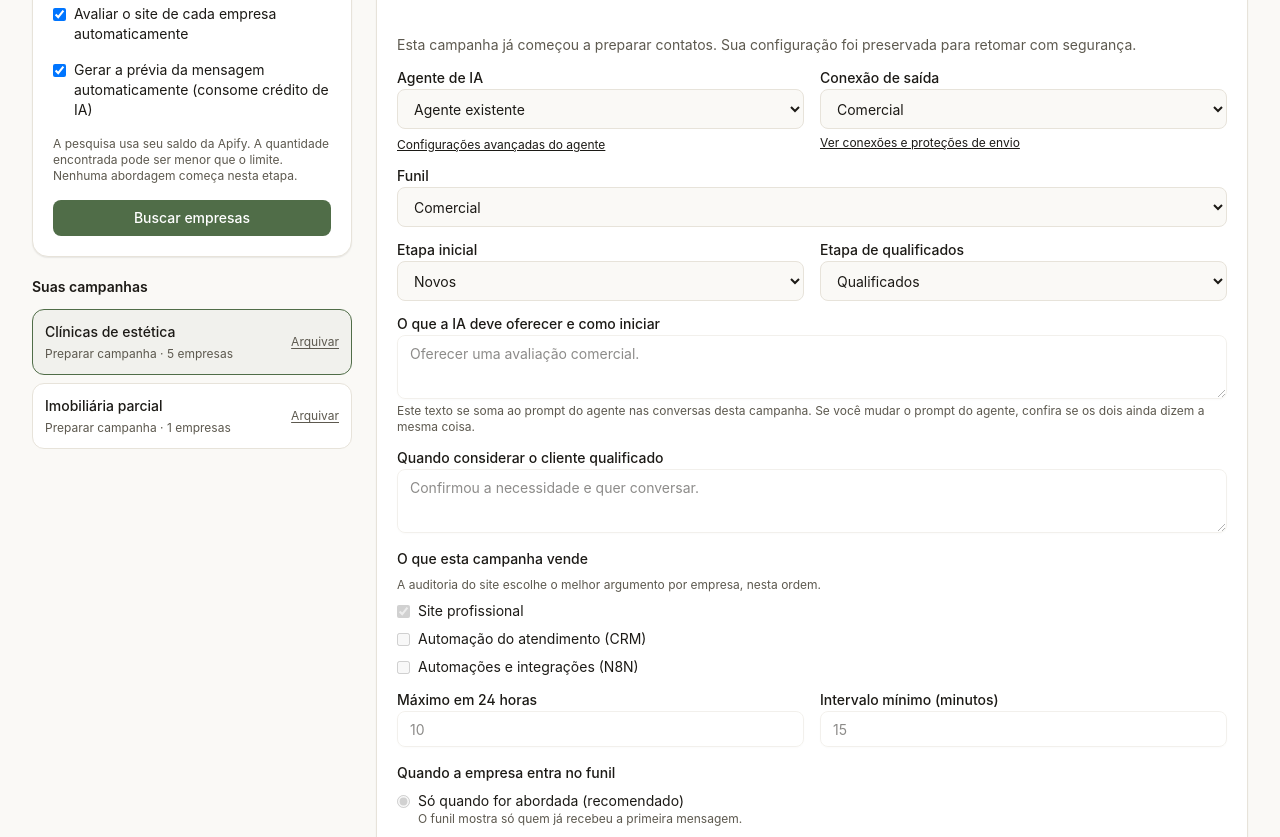
Test case: A3: painel de configuração por estado do rascunho › config parcial (sem agente) mostra o painel e o formulário não fica travado
(page scrolled)
Click the button "Imobiliária parcial Preparar campanha · 1 empresas".
click(152, 416)  # box [33,384,271,448]
(page scrolled)
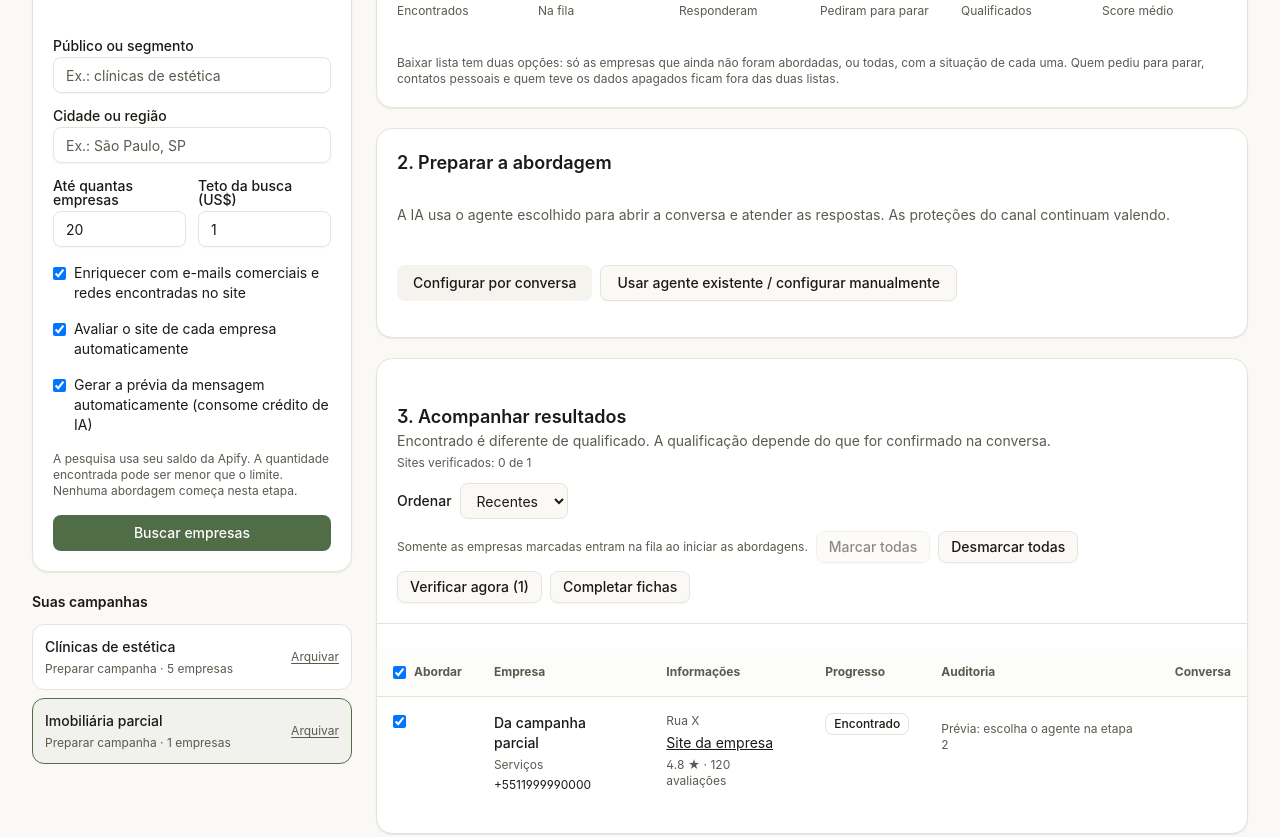
Check: the button "Configurar por conversa" is shown, box [397,265,592,301]
Click the button "Usar agente existente / configurar manualmente".
click(779, 283)  # box [600,265,957,301]
(page scrolled)
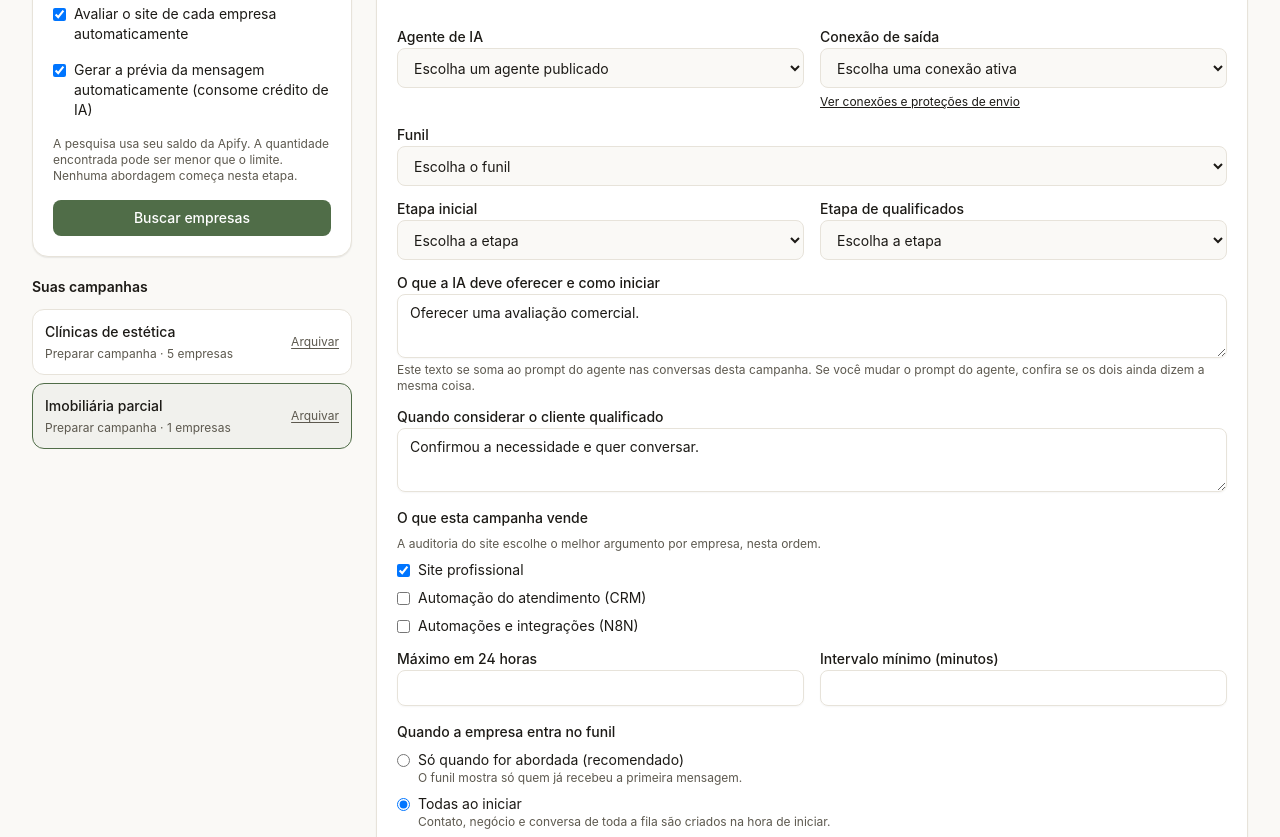
Check: the text box labelled "O que a IA deve oferecer e como iniciar" is enabled, box [397,294,1227,358]
